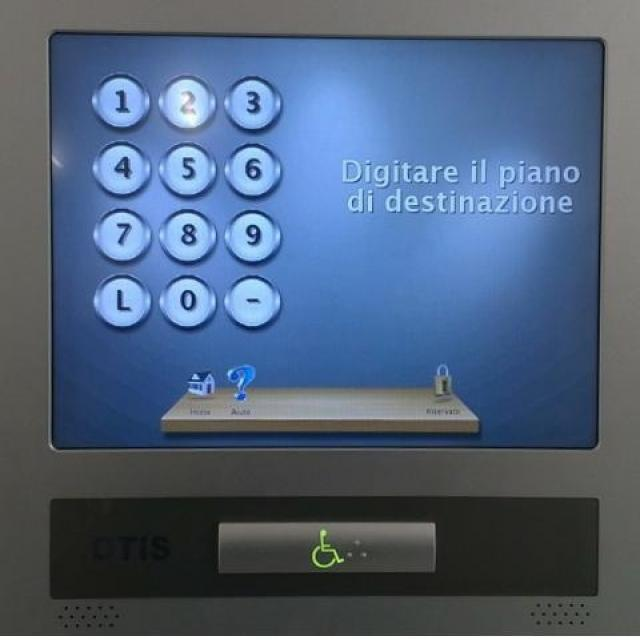-: (223, 271, 280, 330)
0: (157, 271, 216, 330)
1: (90, 68, 150, 129)
2: (157, 72, 216, 130)
3: (221, 72, 283, 133)
4: (92, 138, 151, 196)
5: (157, 140, 216, 197)
6: (221, 140, 280, 198)
7: (90, 205, 150, 263)
8: (156, 206, 216, 264)
9: (223, 206, 281, 265)
CH: (215, 519, 434, 575)
L: (92, 270, 151, 330)
